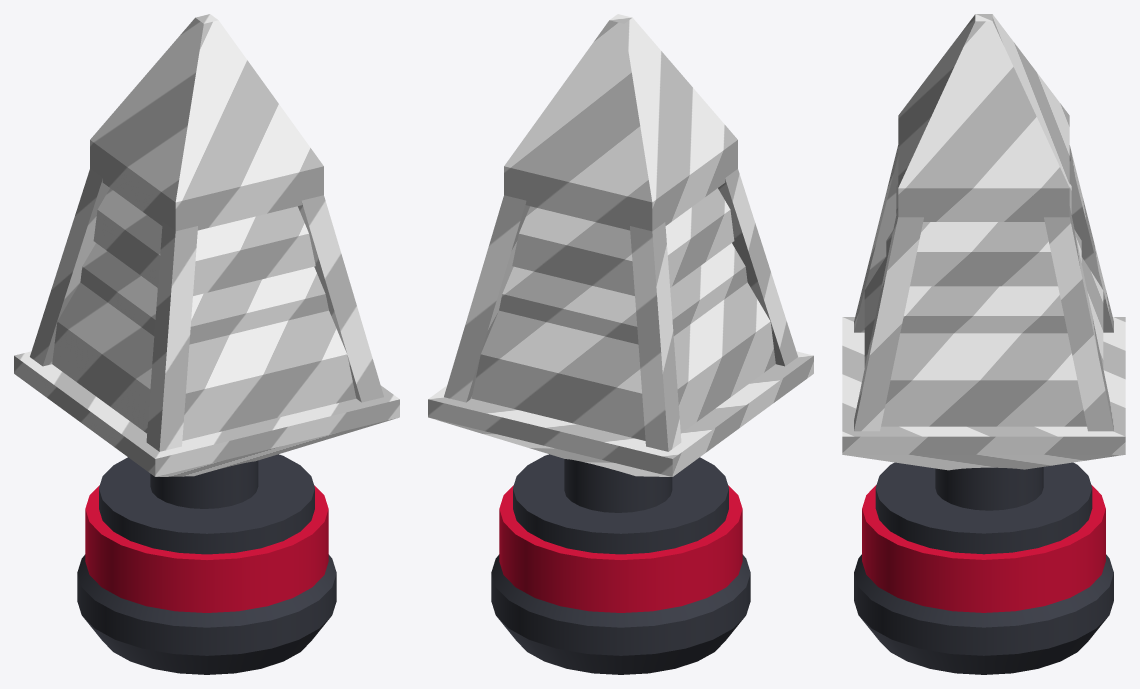
The model's file is tower_eudialyte.obj.
The picture shows the model from 3 angles, left to right: view 1: azimuth 30°, elevation 25°; view 2: azimuth 150°, elevation 25°; view 3: azimuth 270°, elevation 25°; orthographic projection.
Parts seen in each view (by area): view 1: mergedBlocks; view 2: mergedBlocks; view 3: mergedBlocks.
Boxes of the visible parts, box(x1,y1,x2,y2) form: mergedBlocks: box(14, 14, 399, 674); mergedBlocks: box(428, 14, 813, 674); mergedBlocks: box(842, 14, 1125, 674).
Size of the model in its own units: 1.05 by 2.52 by 1.05.
Materials: 5 (2 with a texture image).
